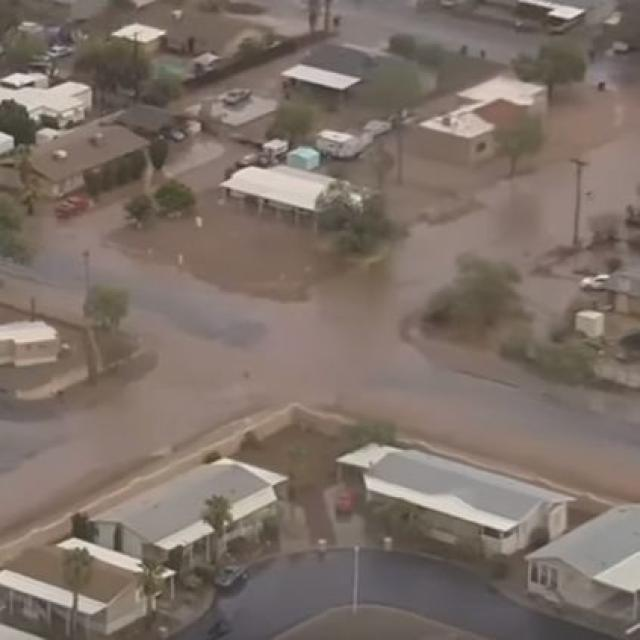flooded_areas: (56, 12, 638, 444)
